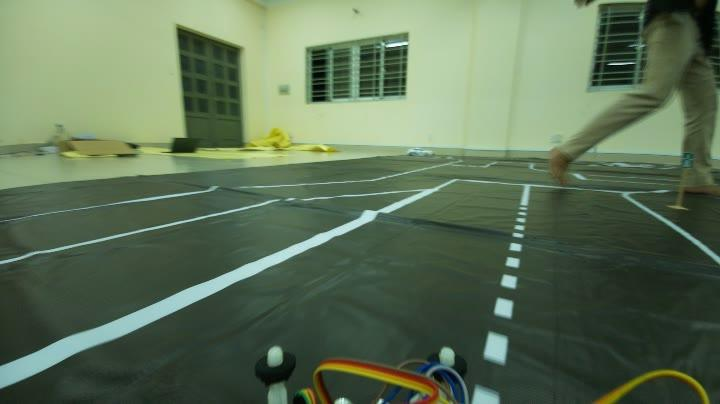highway_entry: (677, 148, 696, 176)
